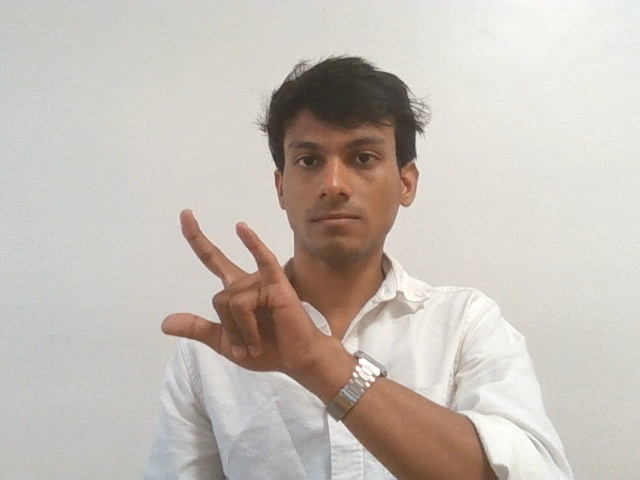ILoveYou: (156, 207, 319, 389)
